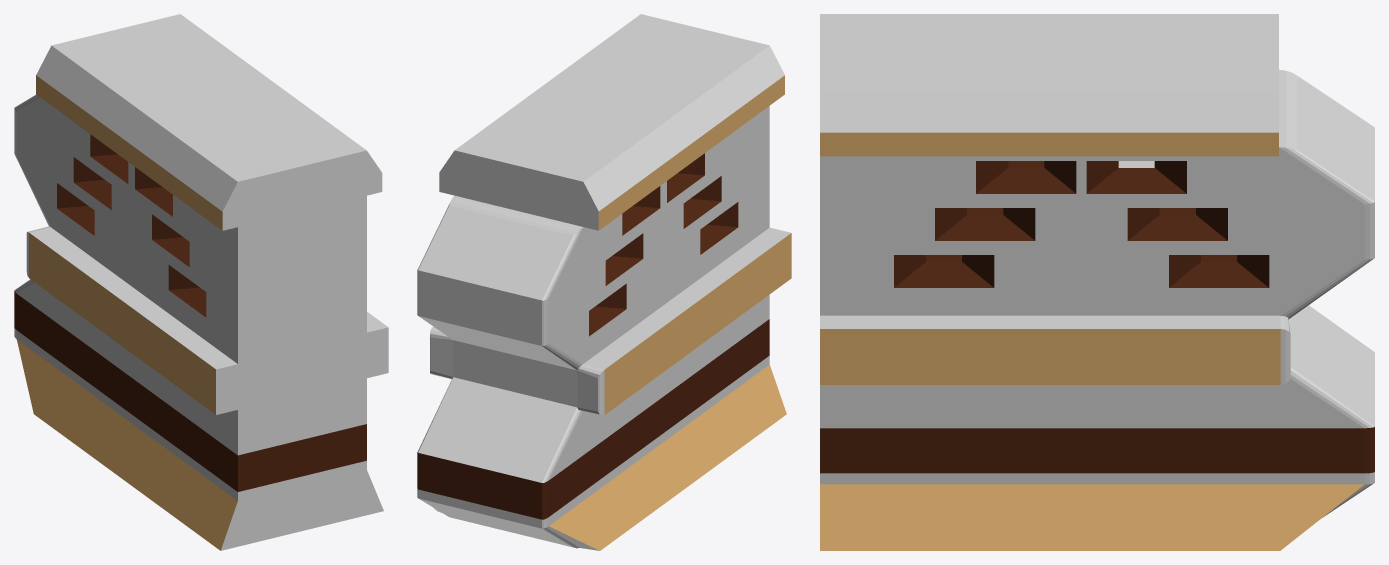
File: Puerta Derecha.fbx
3 renders of one model, left to right at view 1: azimuth 30°, elevation 25°; view 2: azimuth 150°, elevation 25°; view 3: azimuth 270°, elevation 25°, orthographic. The views are drawn at different scales.
Visible parts, largest first — view 1: Cube.009; view 2: Cube.009; view 3: Cube.009.
Part boxes in pixels (x1,y1,x2,y2): Cube.009: (14, 14, 388, 550); Cube.009: (417, 14, 791, 550); Cube.009: (820, 14, 1374, 550).
Bounding box in the file's own units: 113 × 228 × 256.
